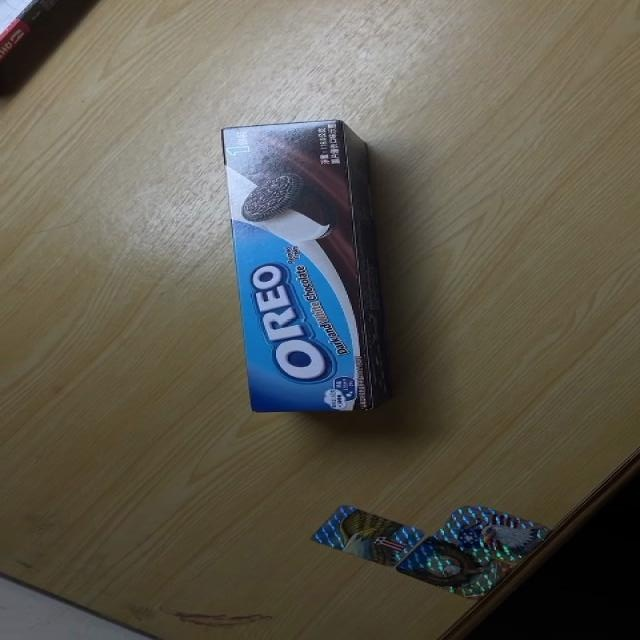Oreo: (220, 119, 395, 414)
